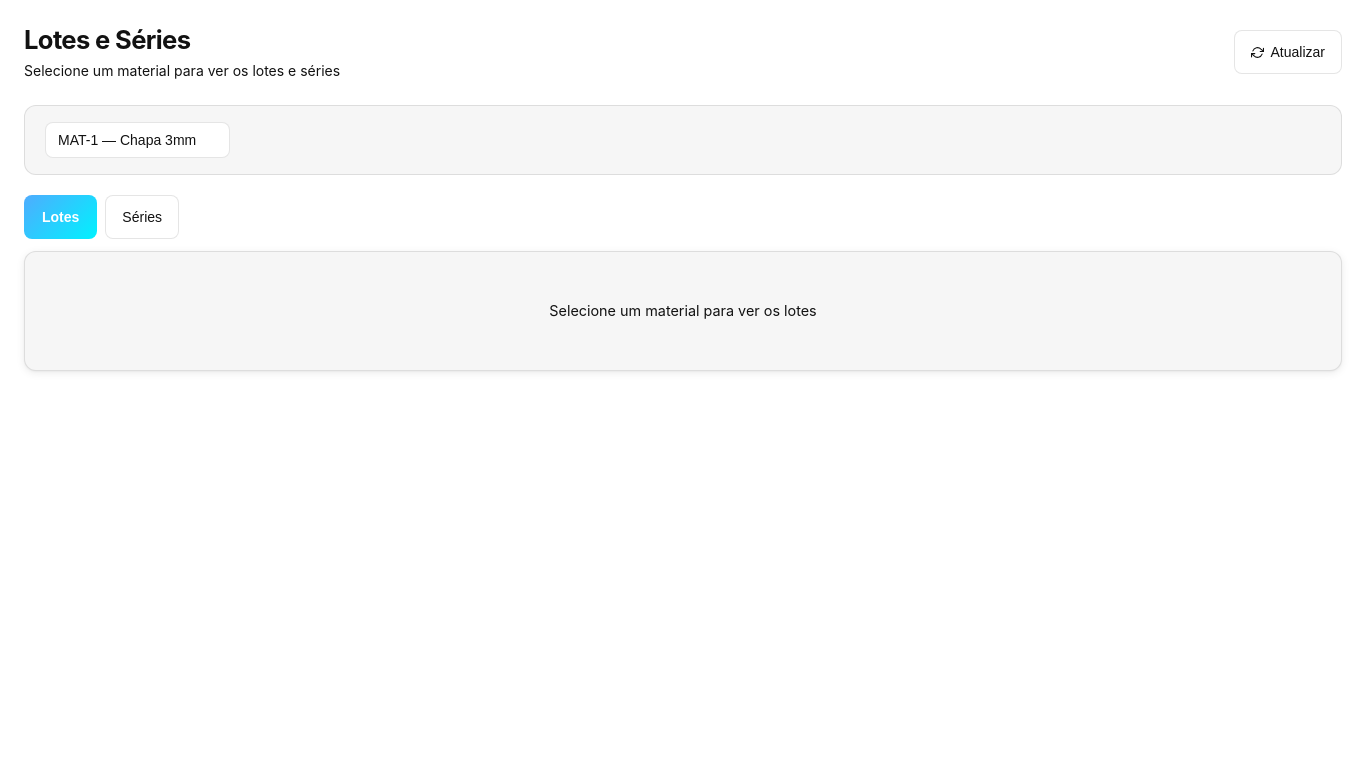
it: LotesAlmoxarifado › lote vencido COM liberação aparece distinto de vencido SEM liberação
Select "MAT-1 — Chapa 3mm" in the dropdown with class "almox-select" at coordinates (138, 140), box [45,122,230,158]
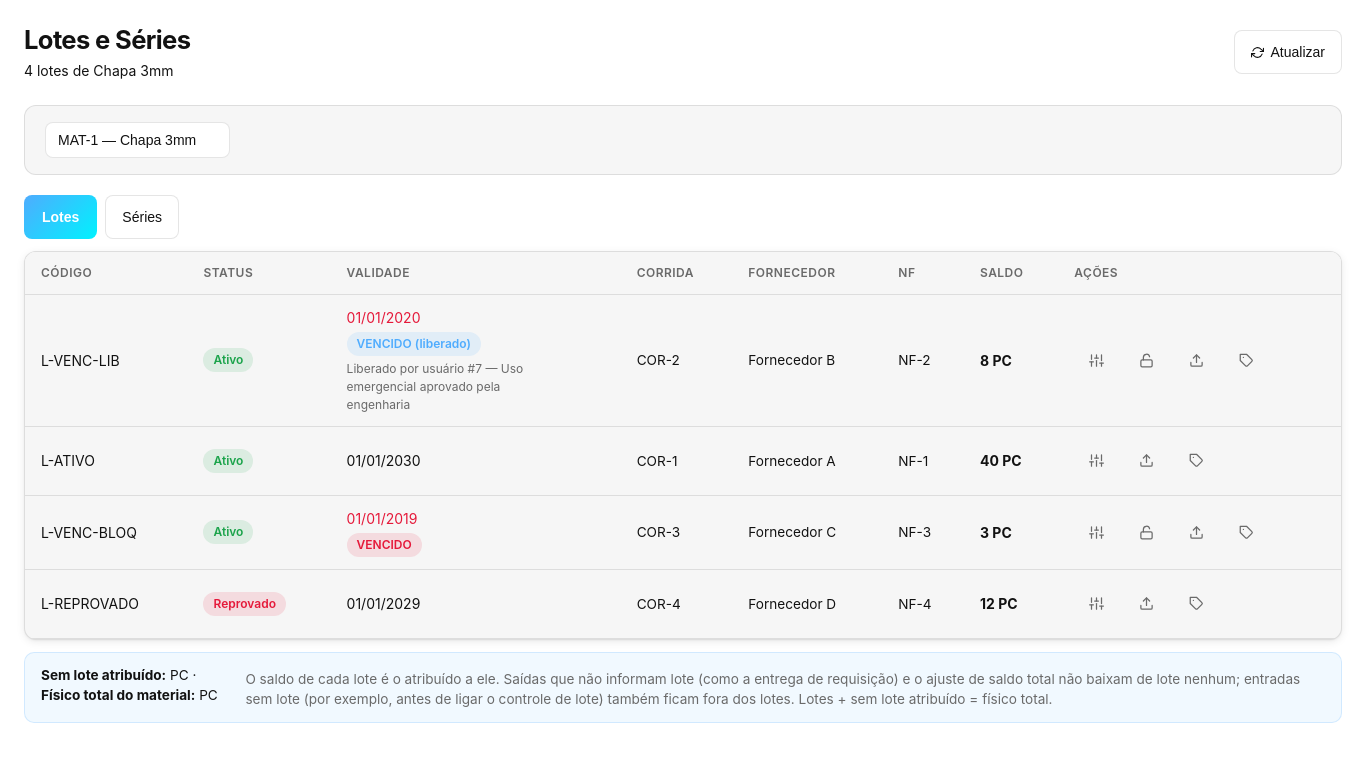
Expected: the row that starts with "L-VENC-LIB" shows "emergencial aprovado pela engenharia", [347,361,523,412]
